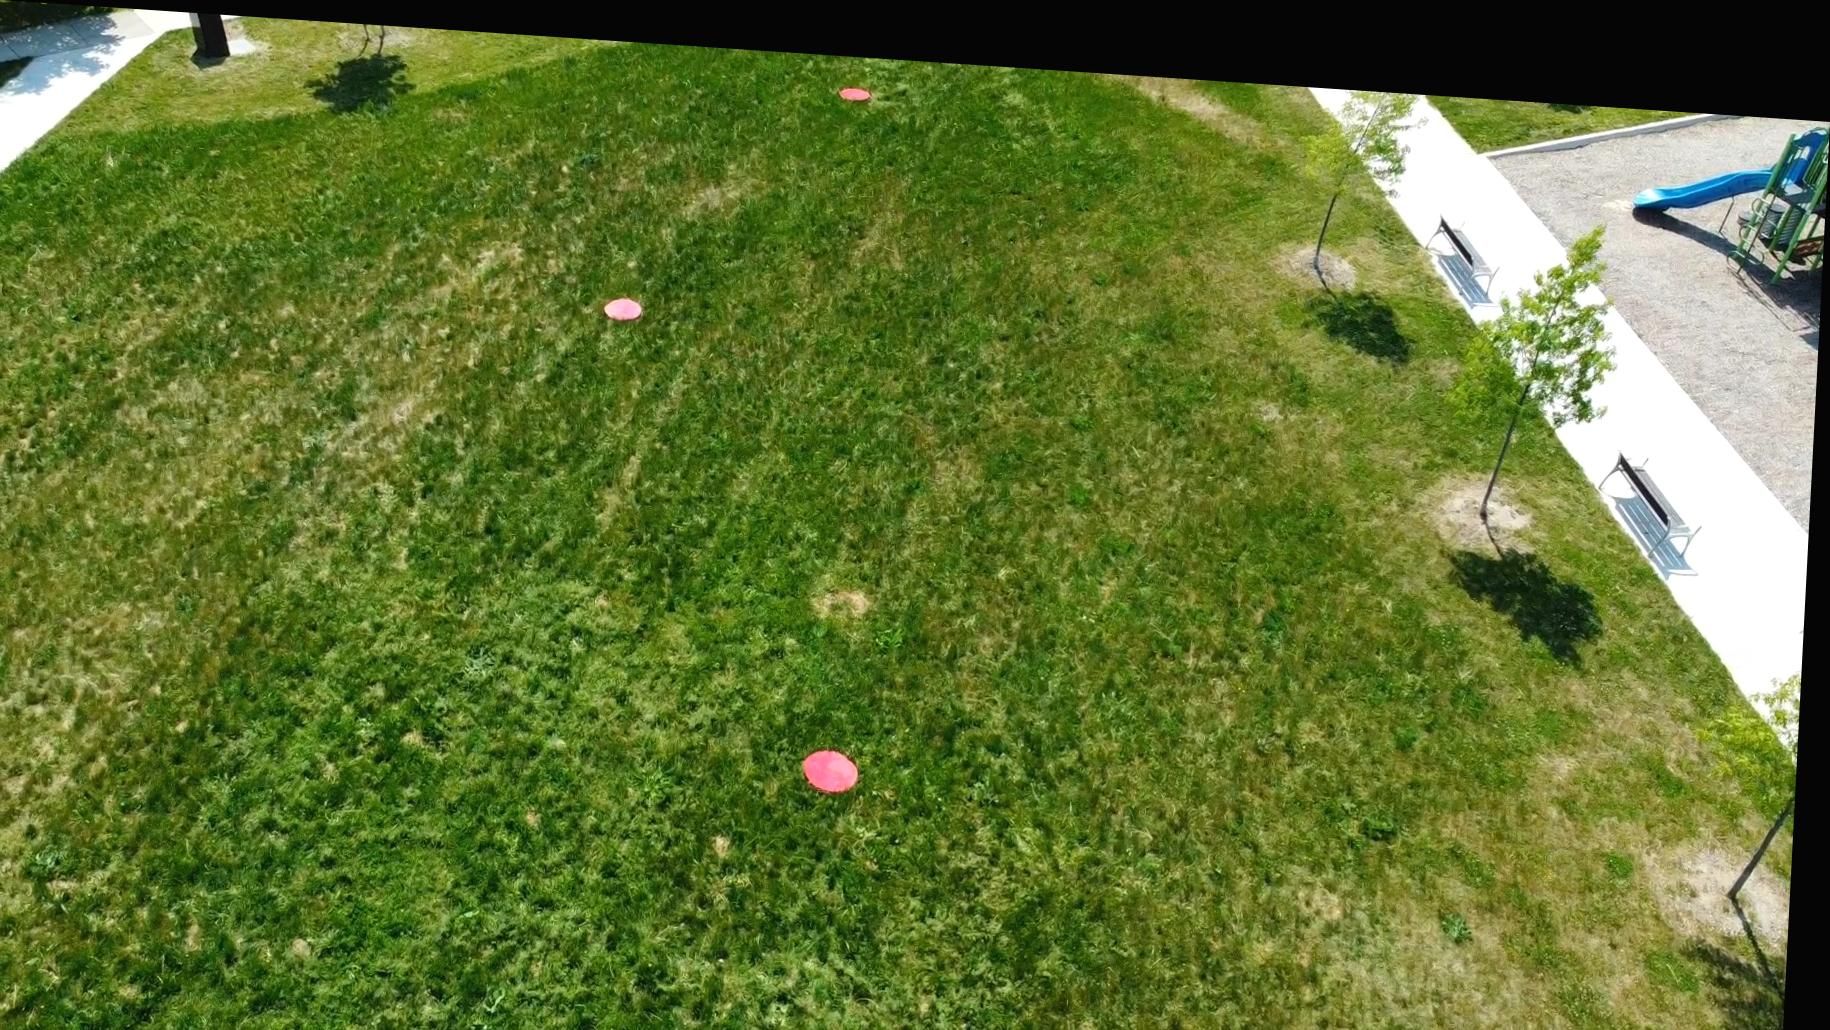Red: (808, 734, 870, 784), (605, 287, 647, 314), (838, 73, 872, 92)
